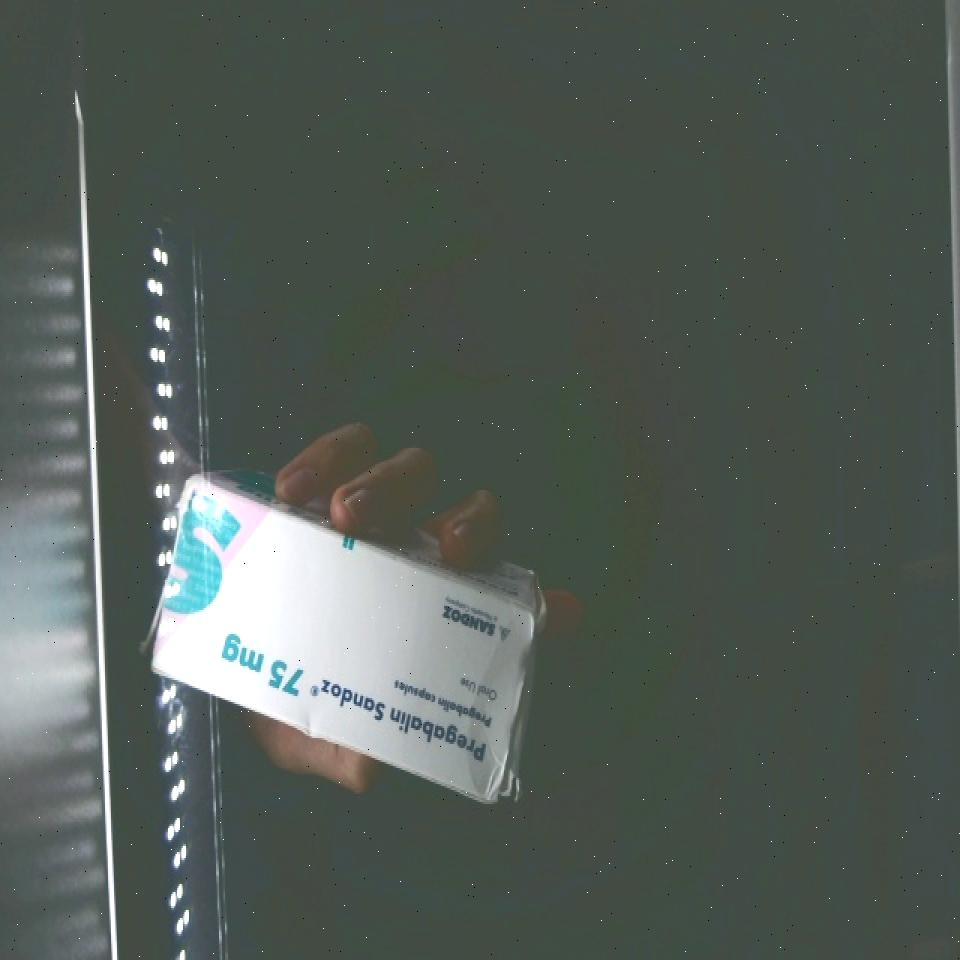medicine_box: (114, 471, 573, 810)
medicine_label_obb: (292, 654, 517, 790)
